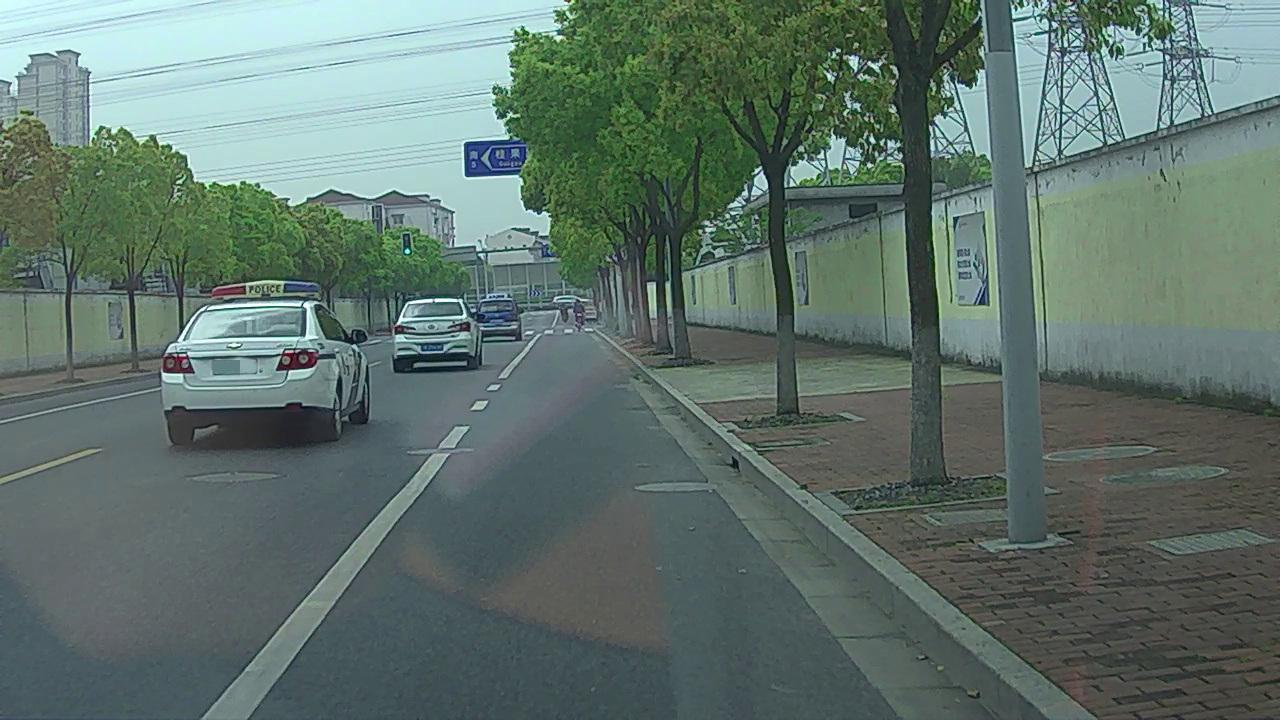traffic_light: (402, 232, 412, 255)
